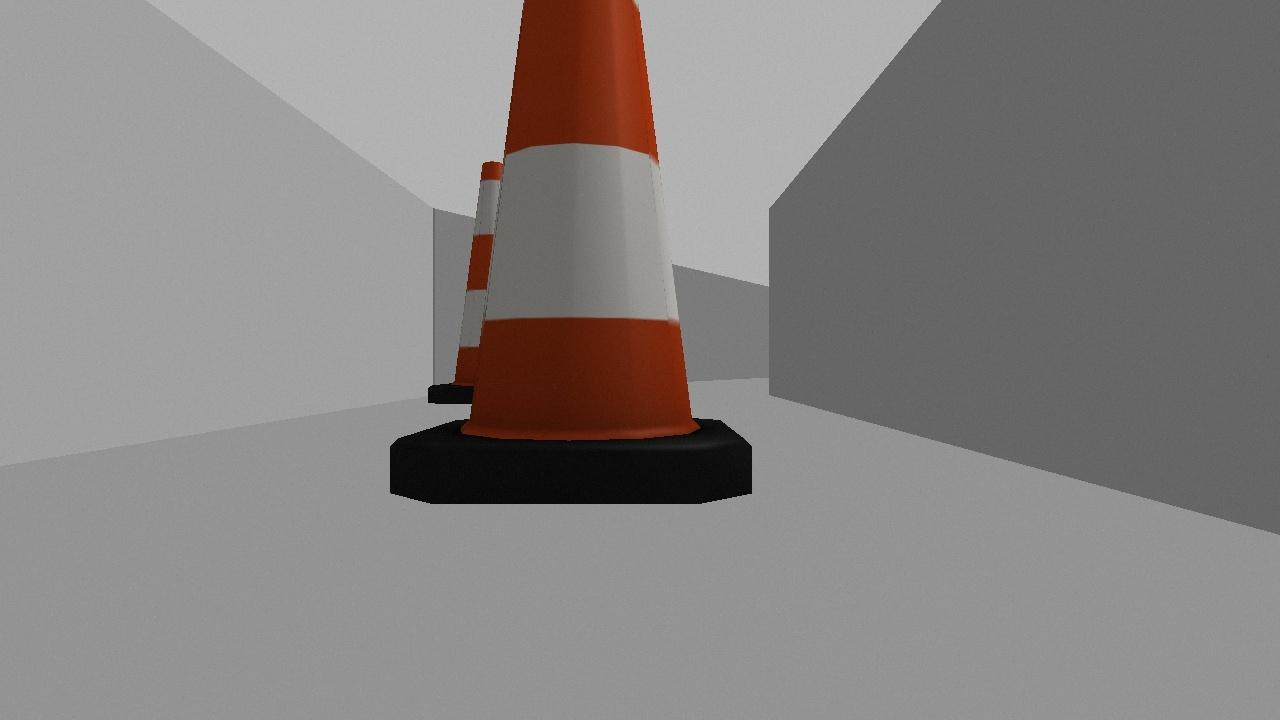cone_barrel: (361, 0, 783, 529), (421, 148, 556, 412)
